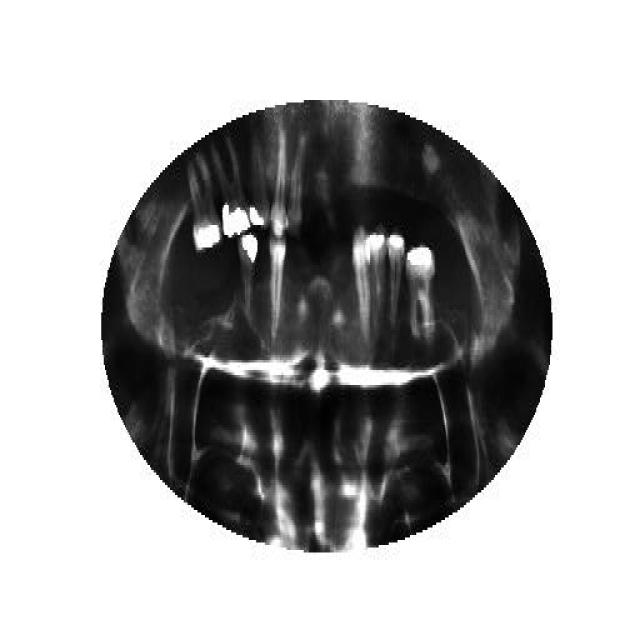Fillings: (209, 132, 249, 238), (186, 153, 220, 255), (405, 245, 435, 345), (248, 122, 270, 232), (385, 232, 406, 338), (236, 232, 259, 322)
